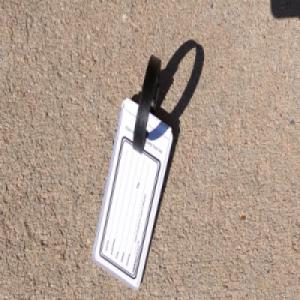LuggageTag: (91, 53, 173, 292)
